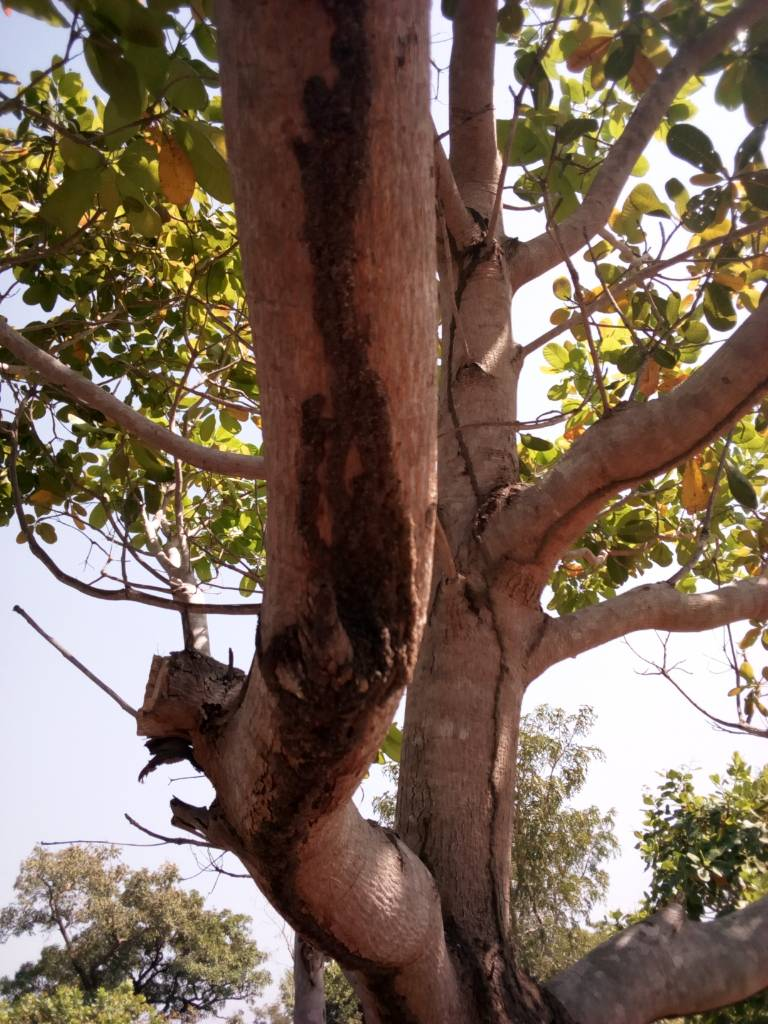Termites: (297, 41, 418, 702), (271, 749, 369, 949)
